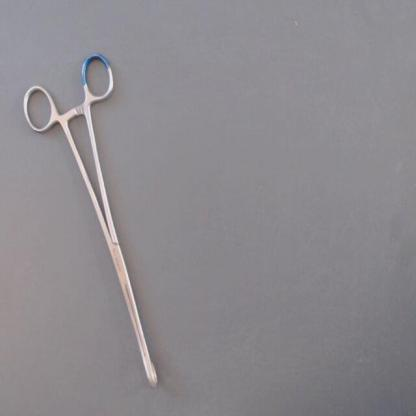Sponge Forceps: (14, 45, 168, 398)
